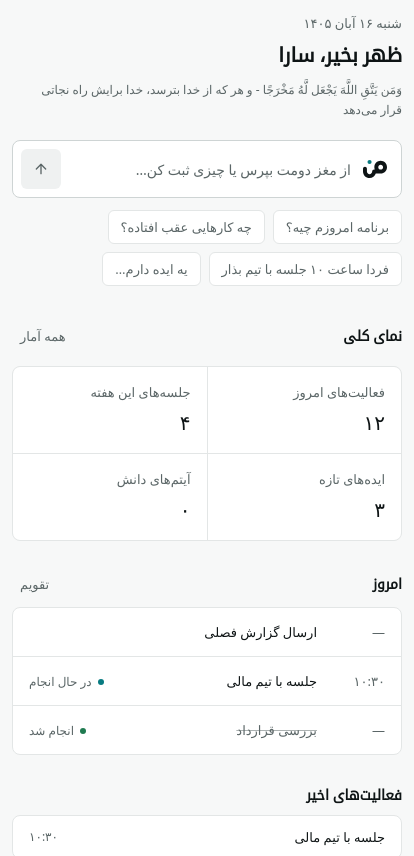
Test: Home dashboard › sends what is typed in the ask bar to the assistant
The width and height of the screenshot is (414, 856).
Expected: the button named "ارسال" is disabled, [21, 149, 61, 189]
Type "فردا ساعت ۹ با دکتر احمدی جلسه دارم" into the field named "پیام به دستیار" at coordinates (212, 169), box [73, 149, 351, 189]
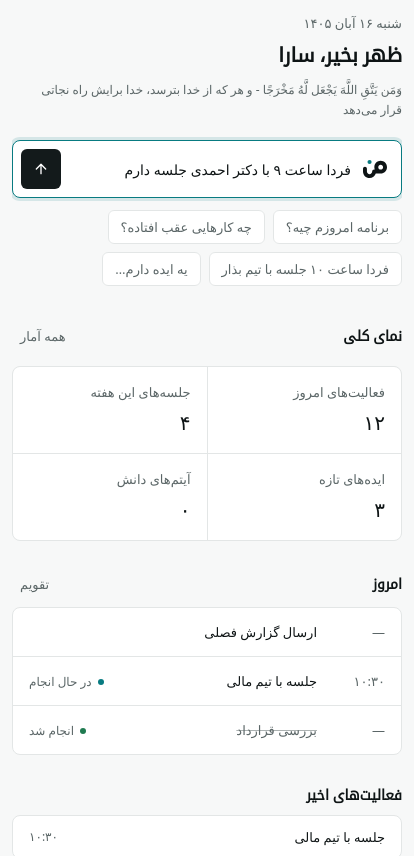
Click the button named "ارسال" at coordinates (41, 169), box [21, 149, 61, 189]
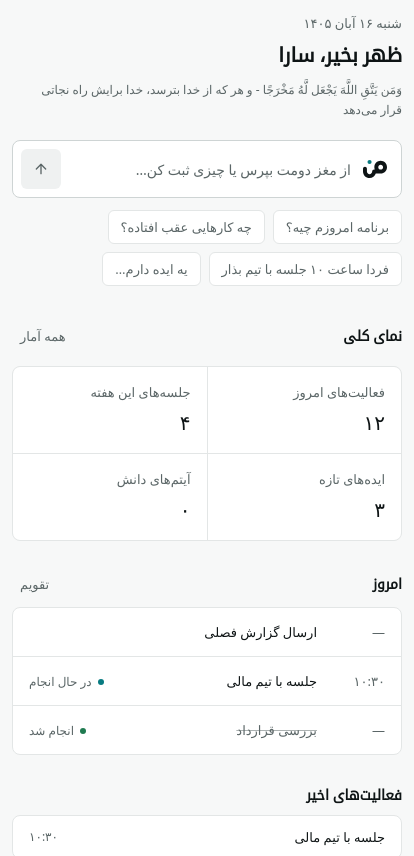
Result: the field named "پیام به دستیار" is empty at [73, 149, 351, 189]
